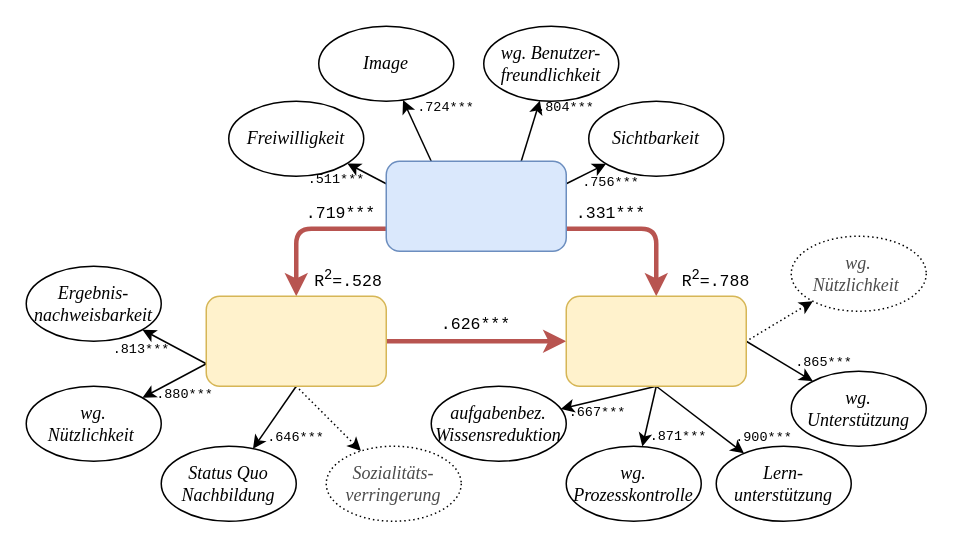
The diagram is 953 pixels wide and 548 high, and some of its shapes have lost their labels. The centre of each missing label's shape, as x and y in pixels:
"Effekte der Automatisierung" belongs at (295,340).
"Effekte der Informatisierung" belongs at (655,340).
"Einführung von IT" belongs at (475,205).
